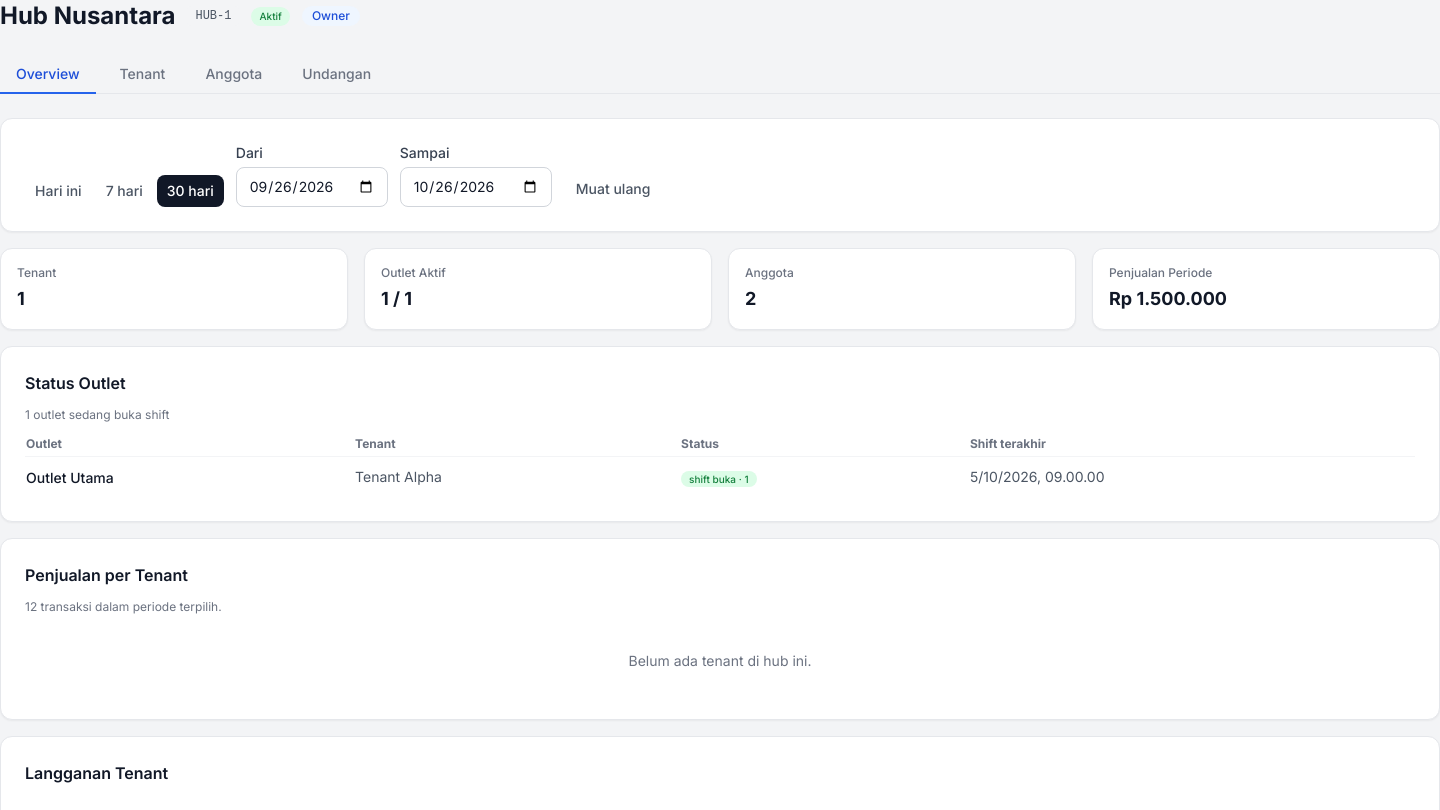
it: HubCenterPage › tab Tenant menampilkan daftar read-only
Click the button "Tenant" at coordinates (142, 75), box x1=104 y1=56 x2=181 y2=94
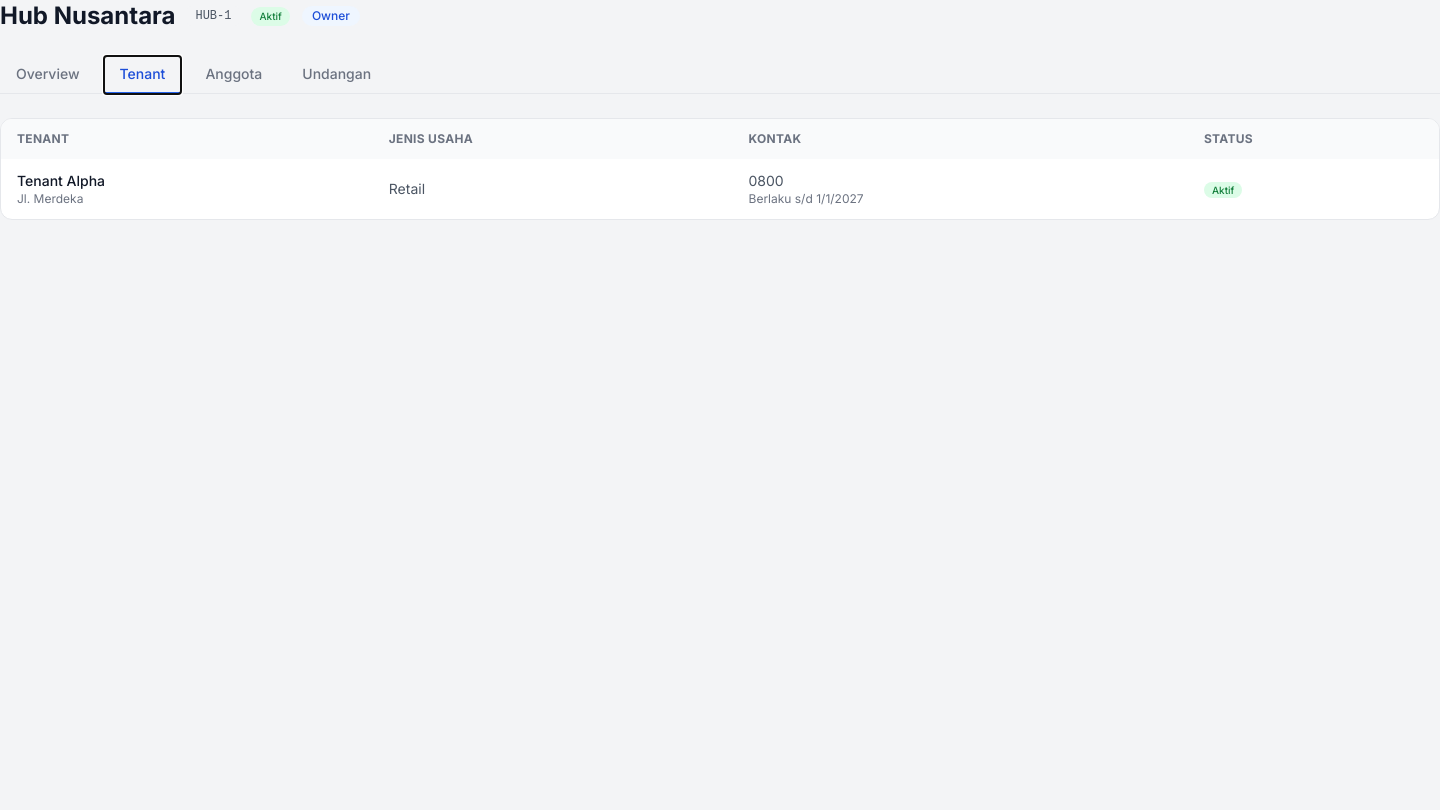
Check: the text "Tenant Alpha" is shown, box x1=17 y1=172 x2=105 y2=189
Check: the text "Jl. Merdeka" is shown, box x1=17 y1=191 x2=83 y2=206
